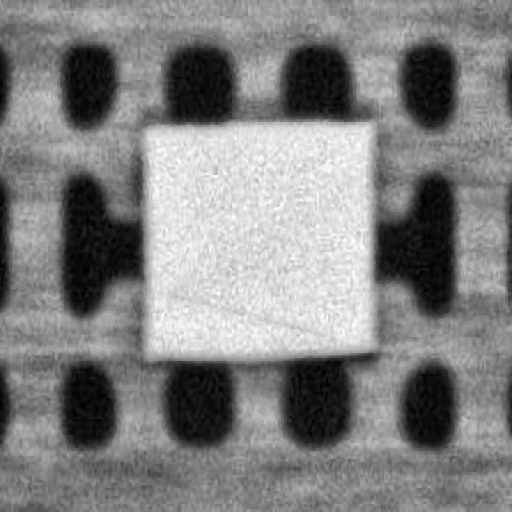DIE_CRACK: (244, 193, 496, 223)
